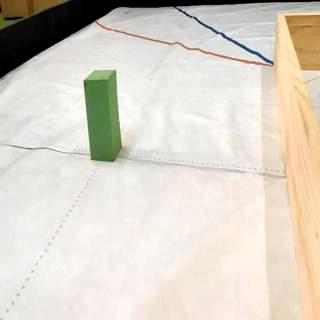greenbox: (84, 70, 120, 161)
